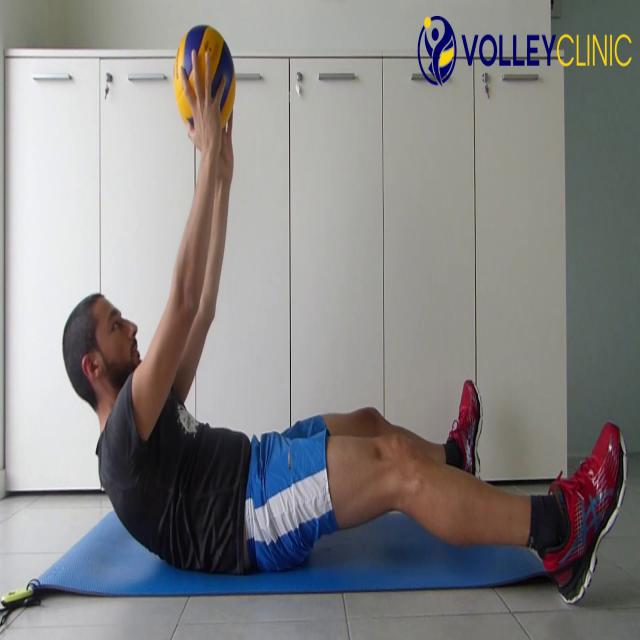Ball: (167, 17, 239, 141)
